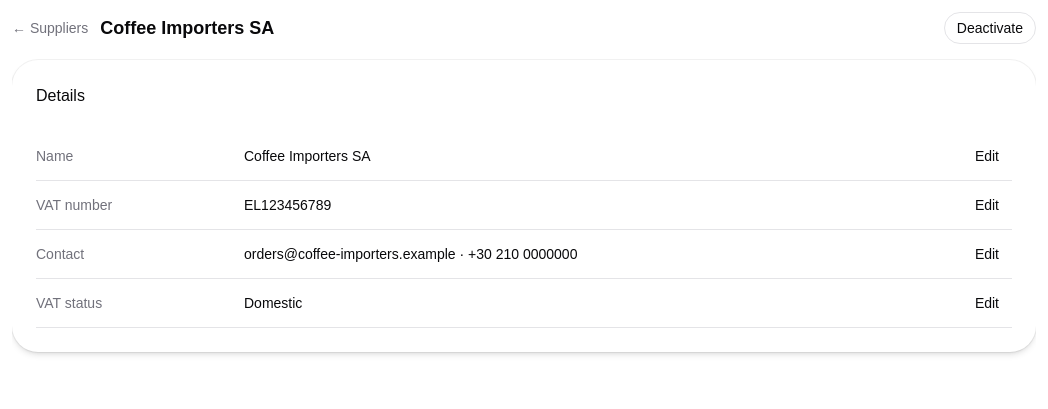
Test: the supplier detail › shows the backend’s reason when a deactivation is refused
The width and height of the screenshot is (1048, 409).
Expected: the heading "Coffee Importers SA" is shown, [100,14,274,42]
Click the button "Deactivate".
click(990, 28)  # box [944,12,1036,44]
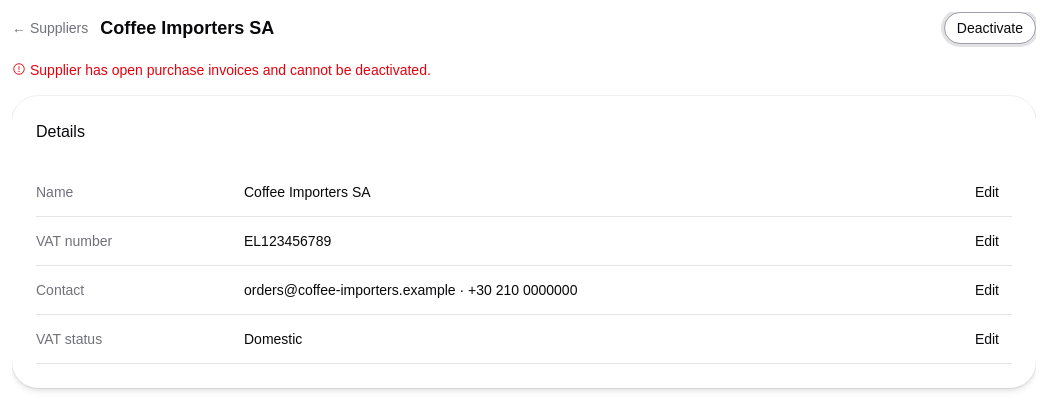
Result: the message shows "open purchase invoices" at [30,62,431,78]
